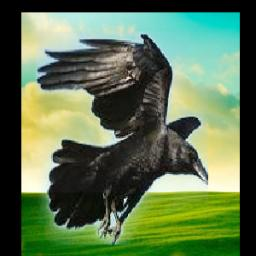Crow: (36, 31, 208, 245)
